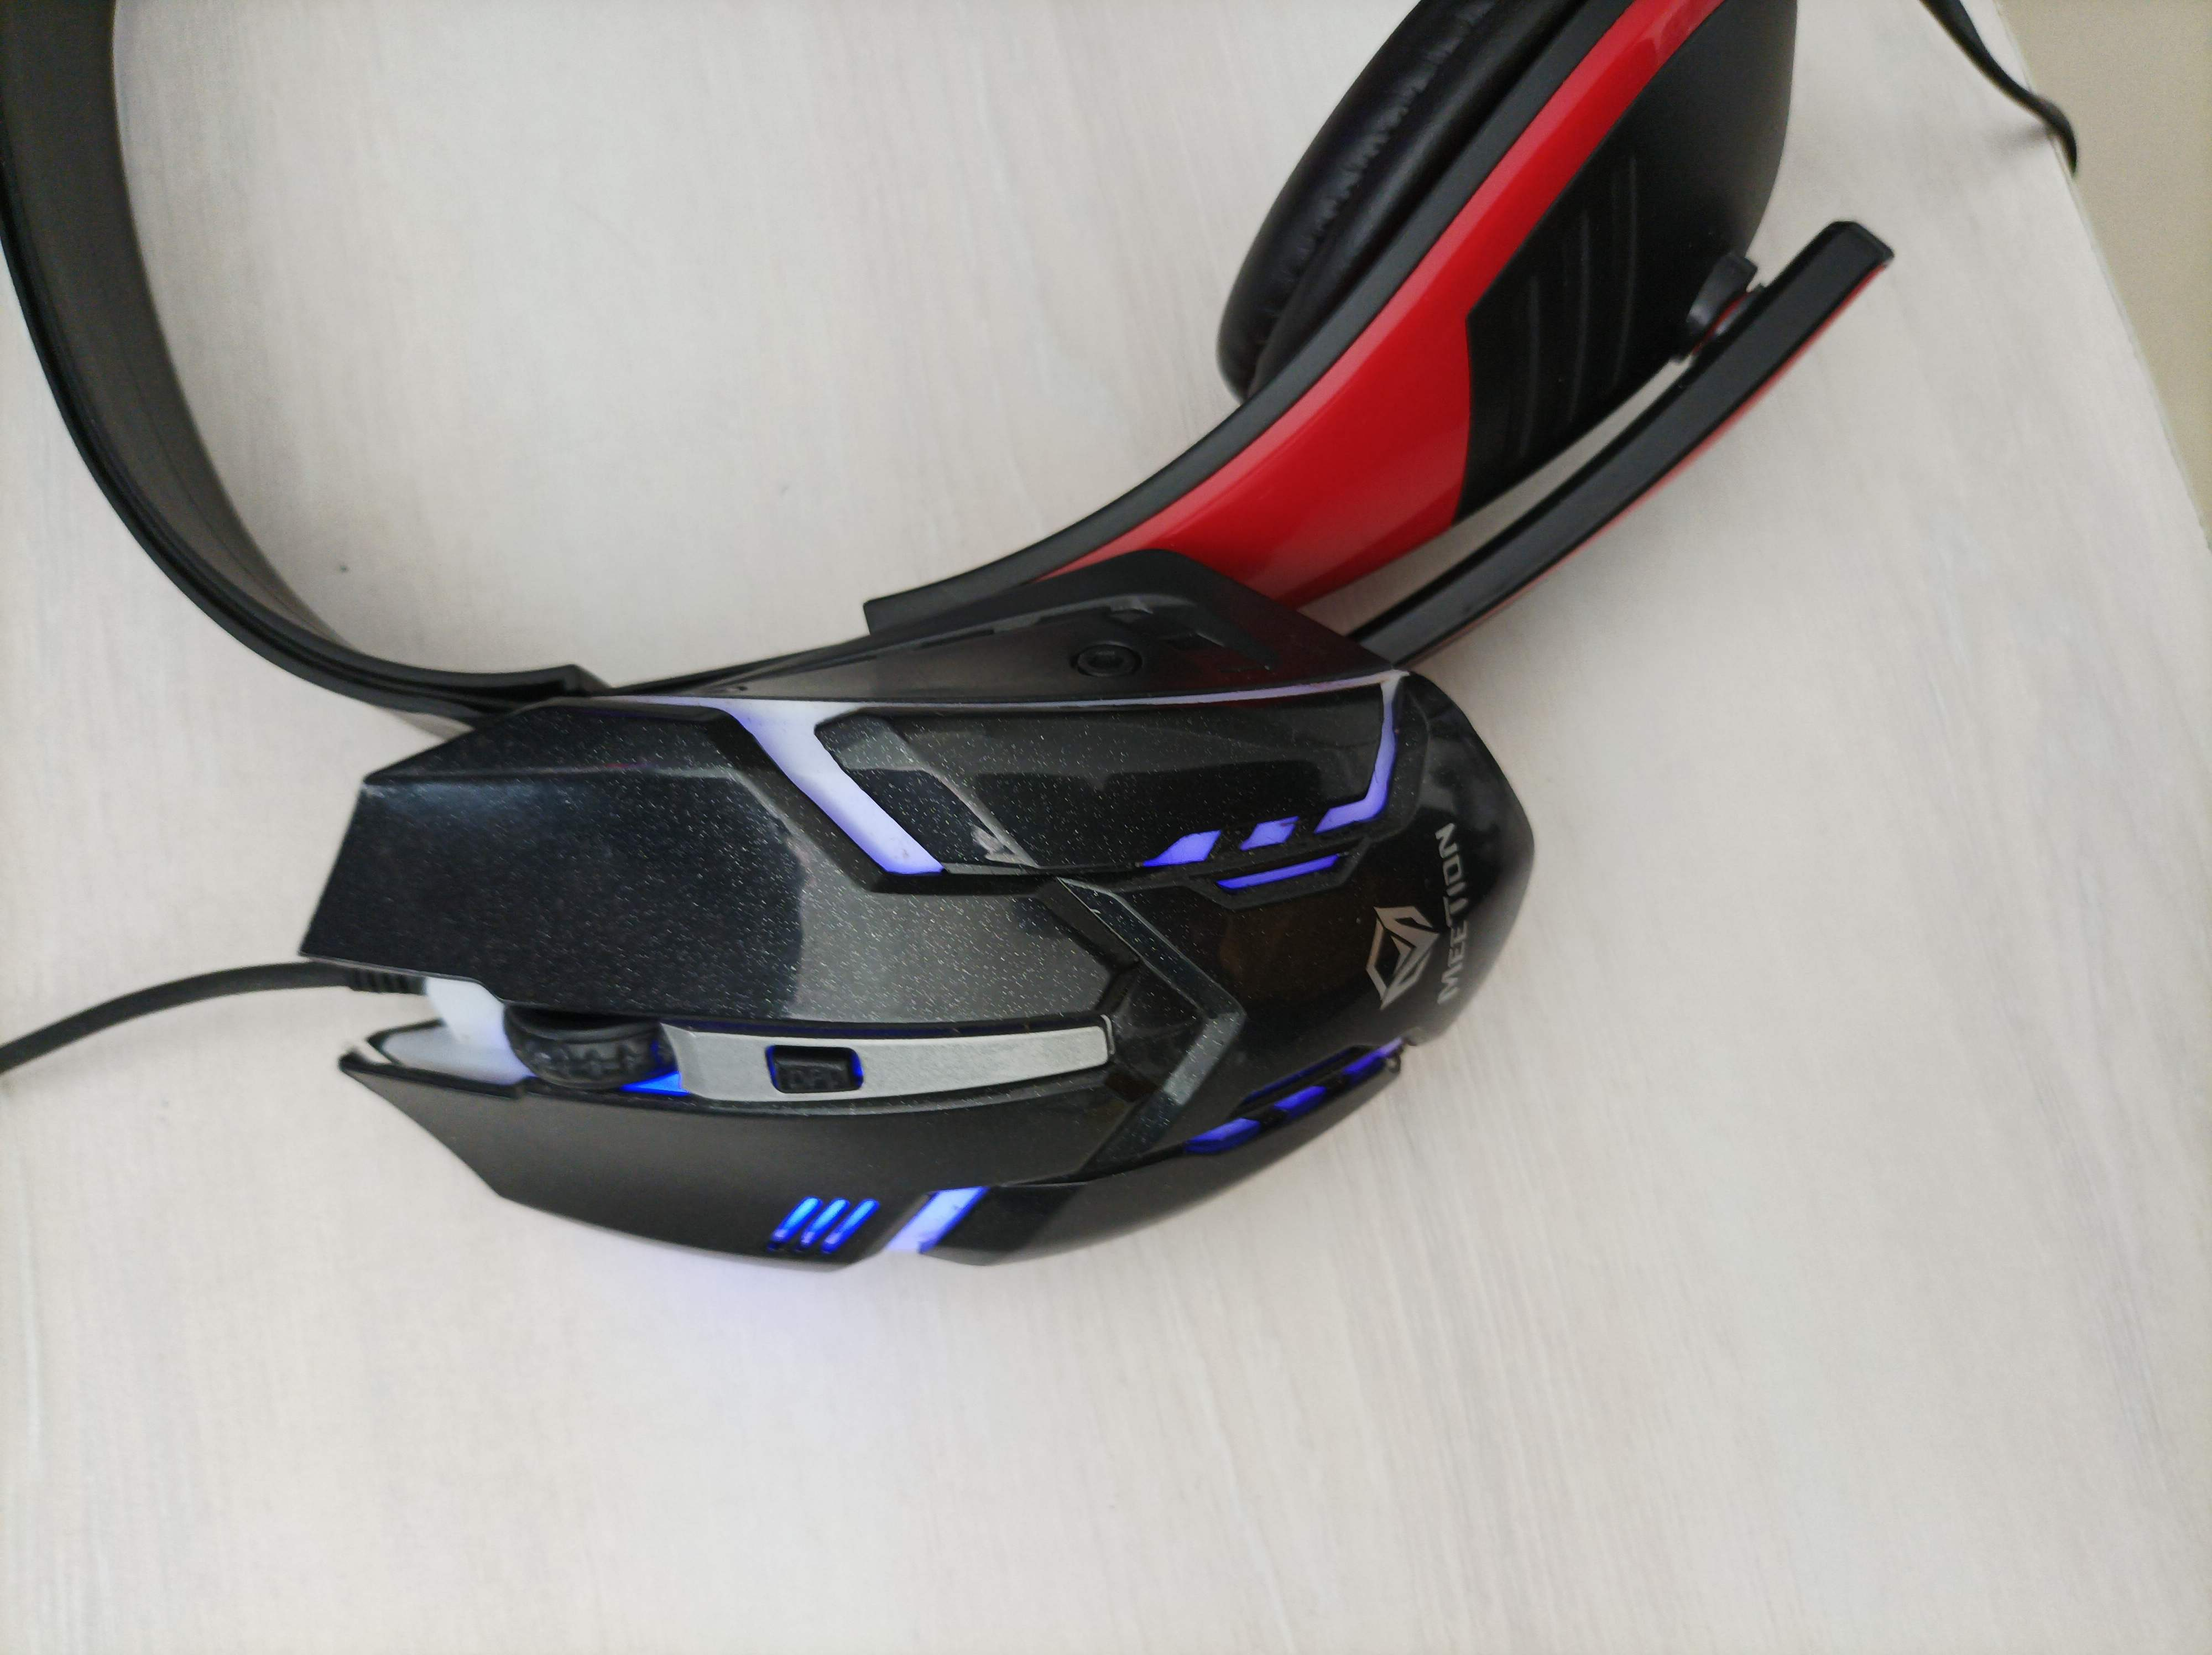mouse: (276, 548, 1545, 1285)
